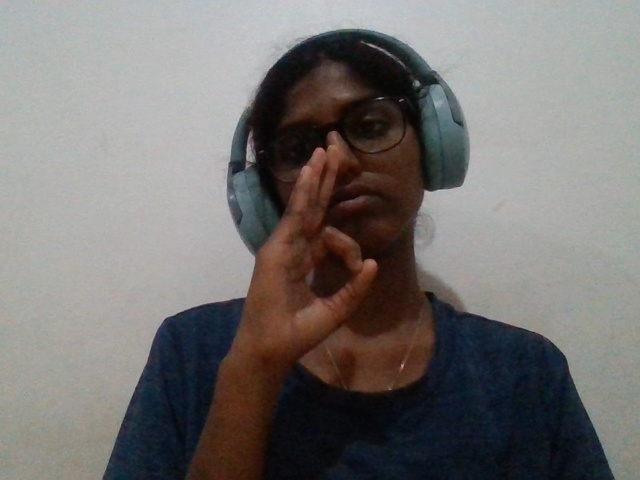F: (176, 123, 409, 480)
